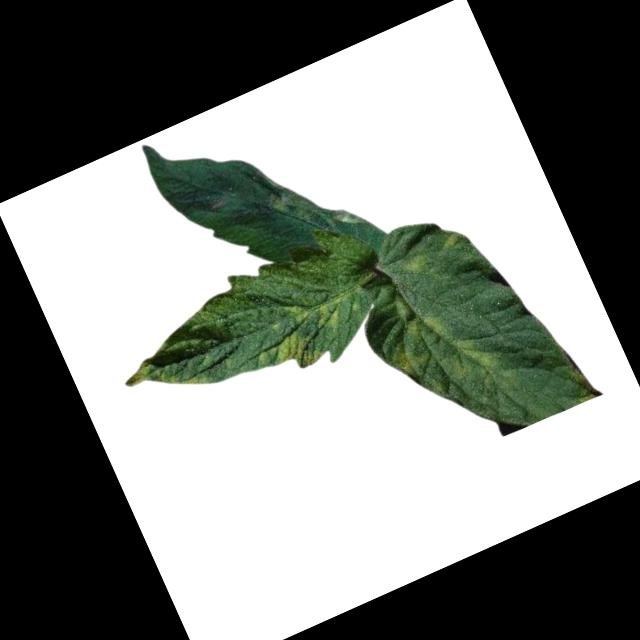Leaf_Mold: (266, 161, 366, 255), (443, 324, 517, 400), (265, 325, 324, 379), (384, 340, 430, 381), (311, 295, 352, 336), (119, 357, 160, 392), (402, 248, 438, 280), (280, 298, 311, 328), (441, 230, 465, 252)
